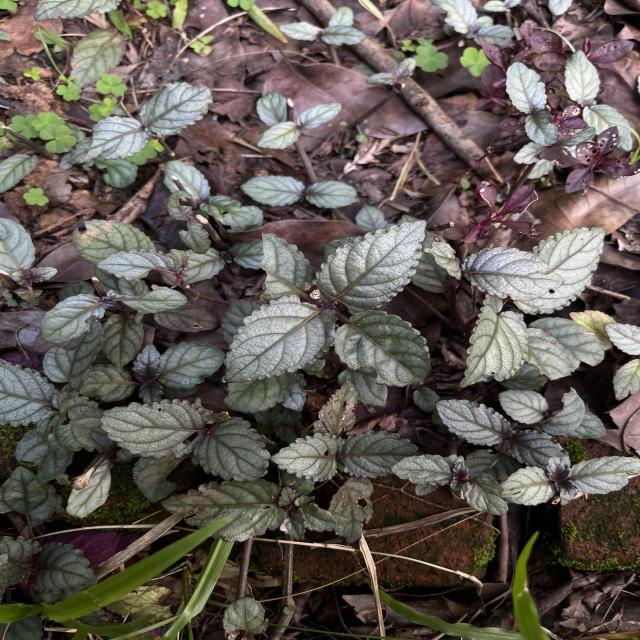Hemigraphis colorata: (222, 293, 339, 385), (312, 218, 428, 310), (510, 226, 606, 316), (160, 478, 288, 545), (331, 308, 433, 389), (99, 398, 212, 460), (459, 291, 530, 389), (460, 244, 566, 302), (192, 415, 272, 483), (336, 428, 422, 479), (138, 80, 214, 137), (266, 431, 346, 484), (28, 539, 99, 596), (433, 398, 513, 448), (39, 292, 107, 345), (158, 340, 226, 390), (94, 246, 181, 283), (566, 453, 640, 495), (106, 282, 190, 315), (499, 465, 556, 507), (504, 60, 548, 114), (388, 452, 452, 488), (462, 470, 509, 517), (130, 342, 165, 382), (602, 321, 640, 356)
